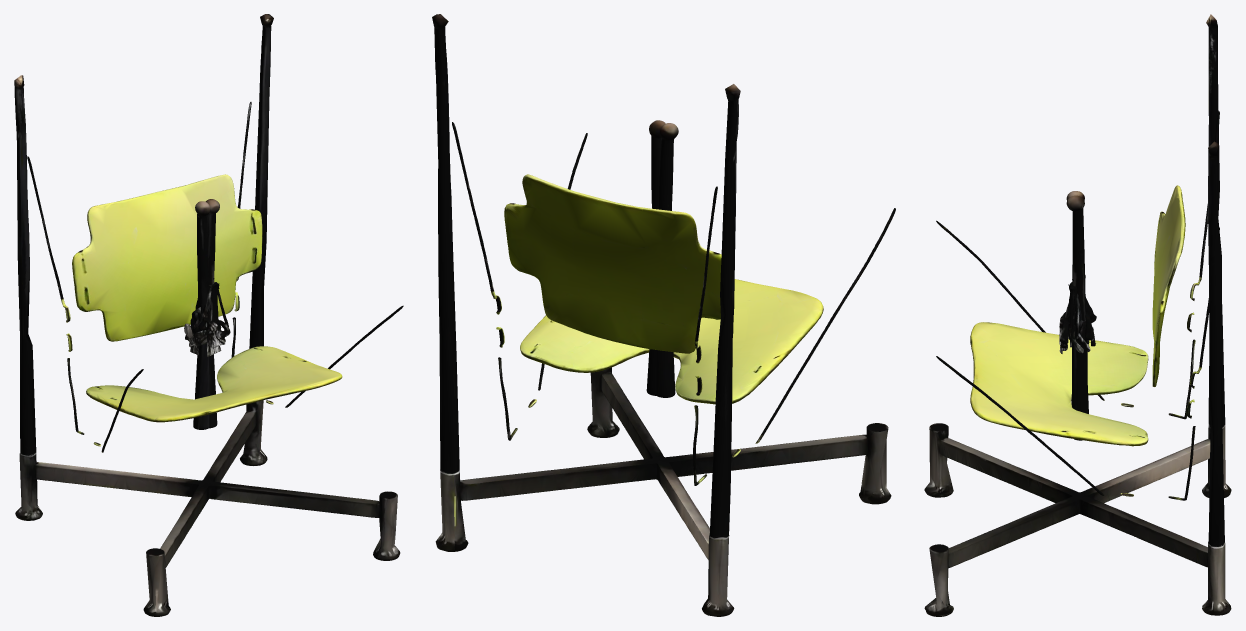
The model's file is NMK.2005.0646_08736.glb.
3 views of the same model, side by side, from view 1: azimuth 30°, elevation 25°; view 2: azimuth 150°, elevation 25°; view 3: azimuth 270°, elevation 25° (orthographic). The views are drawn at different scales.
Parts seen in each view (by area): view 1: root.0, root.1, root.4, root.2, root.3, root.5, root.6; view 2: root.0, root.1, root.4, root.3, root.2; view 3: root.1, root.0, root.4, root.3, root.2, root.5, root.6.
Boxes of the visible parts, x1,y1,x2,y2 form: root.0: (72,174,342,422); root.1: (14,14,400,616); root.4: (27,102,403,452); root.2: (195,201,217,428); root.3: (193,199,219,429); root.5: (192,298,230,356); root.6: (184,282,228,346); root.0: (504,174,823,404); root.1: (432,14,891,616); root.4: (452,122,895,485); root.3: (649,120,675,397); root.2: (646,123,678,395); root.1: (924,14,1231,616); root.0: (970,185,1185,446); root.4: (936,111,1219,500); root.3: (1066,195,1088,411); root.2: (1066,191,1088,440); root.5: (1059,275,1096,353); root.6: (1065,282,1090,351).
Size of the model in its own units: 46783 by 76068 by 44651.
1 material, 1 textured.
